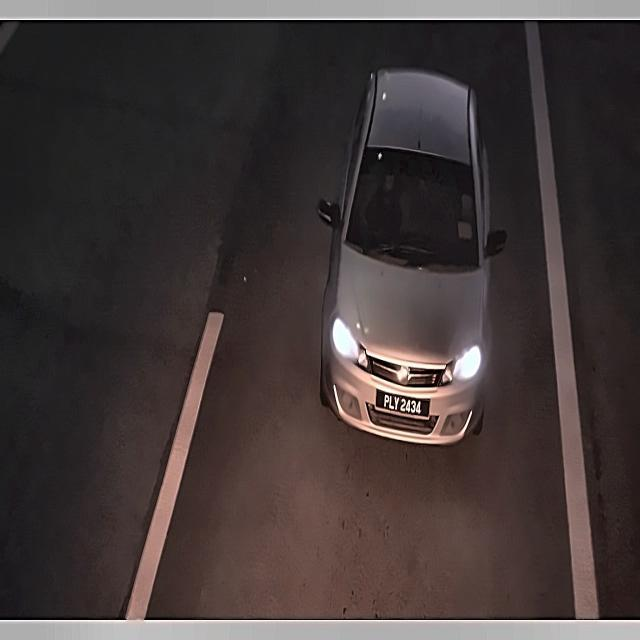car: (374, 379, 433, 431)
